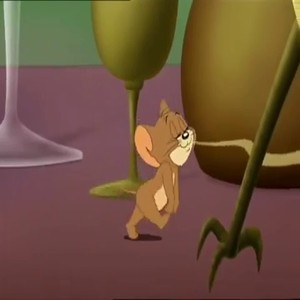Jerry: (123, 94, 198, 246)
